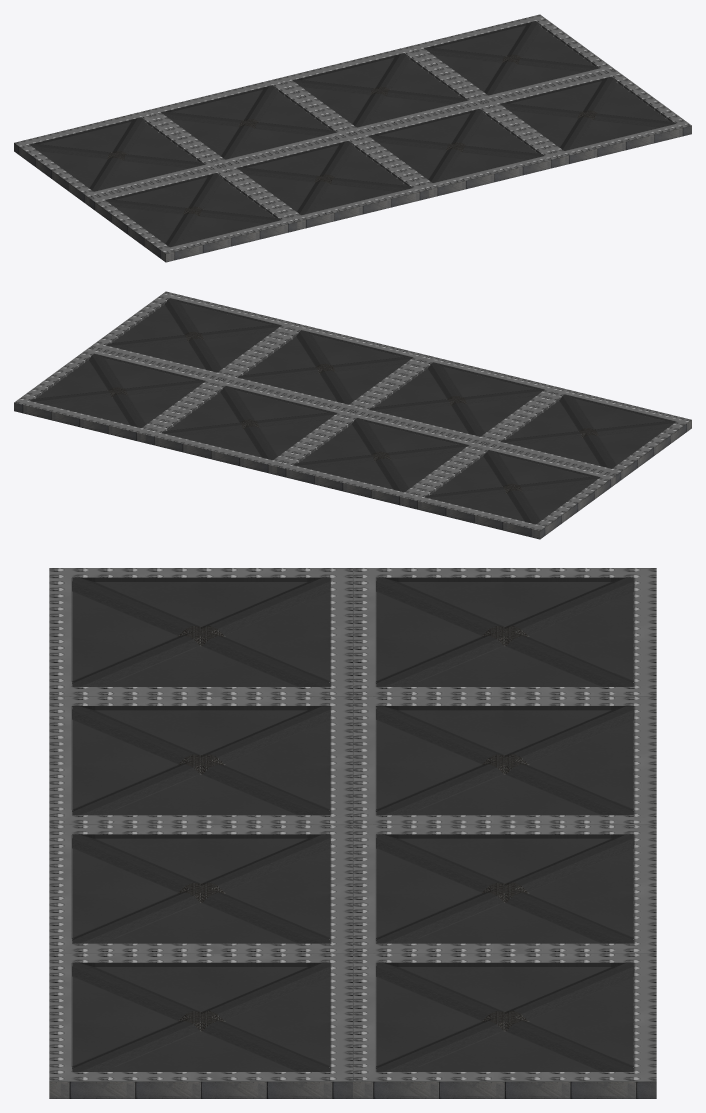
File: UMOD_Prop-Square-2x4_.fbx
The picture shows the model from 3 angles, top to bottom: view 1: azimuth 30°, elevation 25°; view 2: azimuth 150°, elevation 25°; view 3: azimuth 270°, elevation 25°; orthographic projection. The views are drawn at different scales.
Parts seen in each view (by area): view 1: pCube6, pCube11, pCube7, pCube13, pCube8, pCube9, pCube12, pCube10; view 2: pCube8, pCube10, pCube9, pCube12, pCube6, pCube7, pCube13, pCube11; view 3: pCube12, pCube13, pCube6, pCube7, pCube8, pCube9, pCube10, pCube11.
Boxes of the visible parts, x1,y1,x2,y2 form: pCube6: (90,166,297,262); pCube11: (353,102,560,198); pCube7: (222,134,428,230); pCube13: (485,70,691,166); pCube8: (14,110,220,206); pCube9: (146,78,352,166); pCube12: (409,14,615,101); pCube10: (277,46,483,133); pCube8: (408,443,615,539); pCube10: (145,379,352,475); pCube9: (277,411,483,507); pCube12: (14,347,220,443); pCube6: (485,387,691,483); pCube7: (353,355,559,443); pCube13: (90,291,296,378); pCube11: (222,323,428,410); pCube12: (353,953,656,1098); pCube13: (49,953,352,1098); pCube6: (49,568,352,696); pCube7: (49,696,352,824); pCube8: (353,568,656,696); pCube9: (353,696,656,824); pCube10: (353,825,656,953); pCube11: (49,825,352,953).
Size of the model in its own units: 32 by 0.5 by 16.
1 material, 1 textured.
